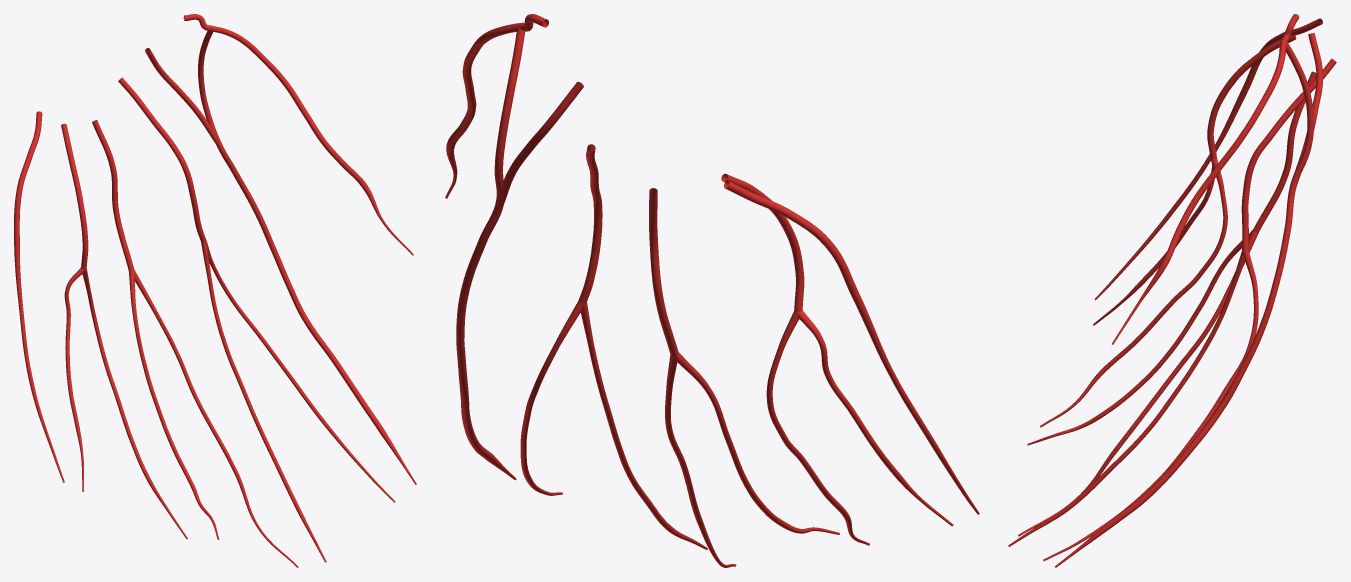
The model's file is circulatorio-palmar-digital-veins-l.glb.
3 renders of one model, left to right at view 1: azimuth 30°, elevation 25°; view 2: azimuth 150°, elevation 25°; view 3: azimuth 270°, elevation 25°, orthographic. The views are drawn at different scales.
Parts seen in each view (by area): view 1: Palmar digital veins.l; view 2: Palmar digital veins.l; view 3: Palmar digital veins.l.
Part boxes in pixels (x1,y1,x2,y2): Palmar digital veins.l: (14,14,416,567); Palmar digital veins.l: (445,14,979,567); Palmar digital veins.l: (1008,14,1336,567).
Bounding box in the file's own units: 0.0999 × 0.1225 × 0.0692.
